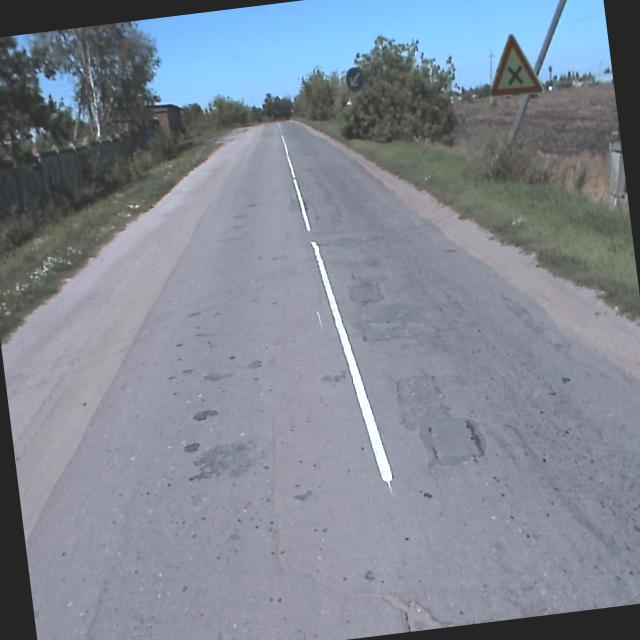road: (25, 119, 640, 640)
